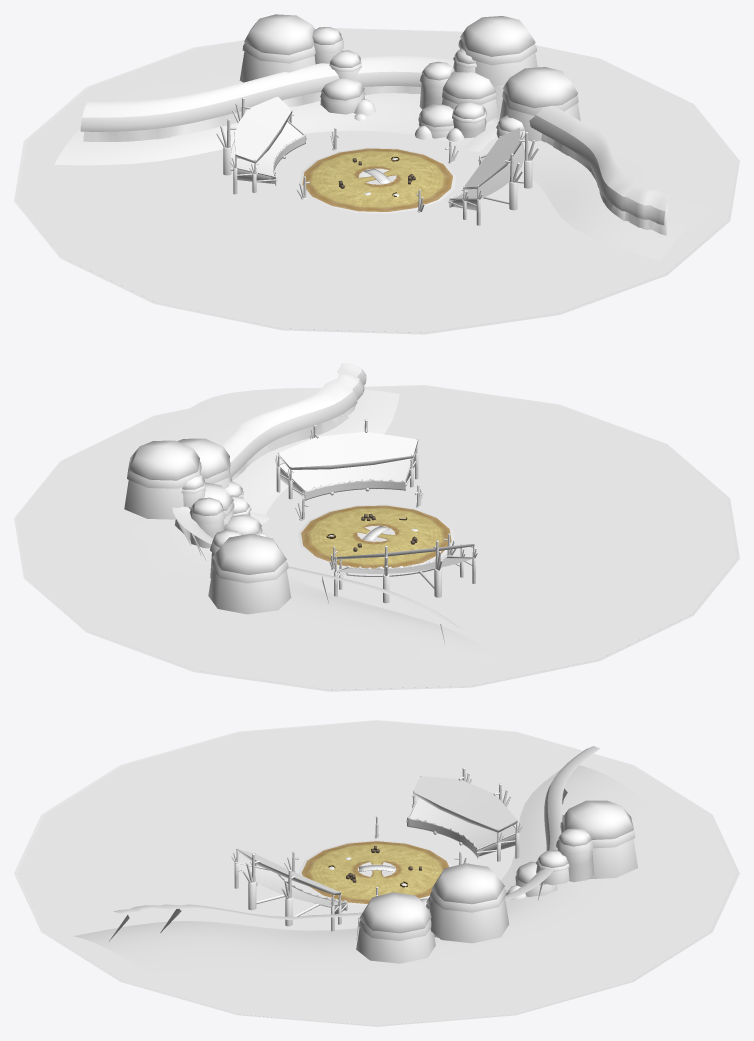
Rendered from battleisland_track.glb.
3 views of the same model, one above another, from view 1: azimuth 30°, elevation 25°; view 2: azimuth 150°, elevation 25°; view 3: azimuth 270°, elevation 25° (orthographic).
Visible parts, largest first — view 1: gfx_distord_AlphaTested.png__, stk_generic_sand_a.png__, stk_generic_grassA.png__, stktex_jungleLiana_b.png__, stk_generic_rock_a.png__, road.jpg__, stk_generic_thatch_a.png__, stktex_generic_bambooB.png__, stktex_generic_concreteA.png__, stktex_palmTreeBark_a.png__, dark-wall-wood.png__; view 2: gfx_distord_AlphaTested.png__, stk_generic_sand_a.png__, stk_generic_grassA.png__, stk_generic_rock_a.png__, road.jpg__, stktex_jungleLiana_b.png__, stk_generic_thatch_a.png__, stktex_generic_bambooB.png__, dark-wall-wood.png__, stktex_generic_concreteA.png__, stktex_hayFiber_a.png__, stktex_palmTreeBark_a.png__; view 3: gfx_distord_AlphaTested.png__, stk_generic_sand_a.png__, stk_generic_grassA.png__, stk_generic_rock_a.png__, road.jpg__, stk_generic_thatch_a.png__, stktex_generic_bambooB.png__, stktex_jungleLiana_b.png__, dark-wall-wood.png__, stktex_generic_concreteA.png__, stktex_palmTreeBark_a.png__, stktex_hayFiber_a.png__.
Boxes of the visible parts, x1,y1,x2,y2 form: gfx_distord_AlphaTested.png__: (17,28,737,332); stk_generic_sand_a.png__: (14,28,739,334); stk_generic_grassA.png__: (82,14,670,210); stktex_jungleLiana_b.png__: (80,36,665,225); stk_generic_rock_a.png__: (83,49,667,235); road.jpg__: (302,148,452,211); stk_generic_thatch_a.png__: (234,97,520,187); stktex_generic_bambooB.png__: (229,106,525,207); stktex_generic_concreteA.png__: (216,96,538,225); stktex_palmTreeBark_a.png__: (217,99,538,211); dark-wall-wood.png__: (237,120,486,210); gfx_distord_AlphaTested.png__: (15,385,736,689); stk_generic_sand_a.png__: (14,385,739,691); stk_generic_grassA.png__: (128,363,460,628); stk_generic_rock_a.png__: (124,404,445,644); road.jpg__: (301,505,451,568); stktex_jungleLiana_b.png__: (127,369,366,583); stk_generic_thatch_a.png__: (278,431,470,546); stktex_generic_bambooB.png__: (278,428,472,588); dark-wall-wood.png__: (280,451,474,576); stktex_generic_concreteA.png__: (274,419,477,603); stktex_hayFiber_a.png__: (277,439,474,559); stktex_palmTreeBark_a.png__: (275,421,477,575); gfx_distord_AlphaTested.png__: (17,721,736,1025); stk_generic_sand_a.png__: (14,720,739,1026); stk_generic_grassA.png__: (113,746,633,933); stk_generic_rock_a.png__: (109,788,637,963); road.jpg__: (301,841,448,903); stk_generic_thatch_a.png__: (238,776,517,892); stktex_generic_bambooB.png__: (236,776,515,916); stktex_jungleLiana_b.png__: (359,783,635,940); dark-wall-wood.png__: (235,797,515,914); stktex_generic_concreteA.png__: (231,768,522,931); stktex_palmTreeBark_a.png__: (231,769,522,906); stktex_hayFiber_a.png__: (236,792,517,894).
Bounding box in the file's own units: 755 × 151 × 755.
18 materials, 4 textured.
